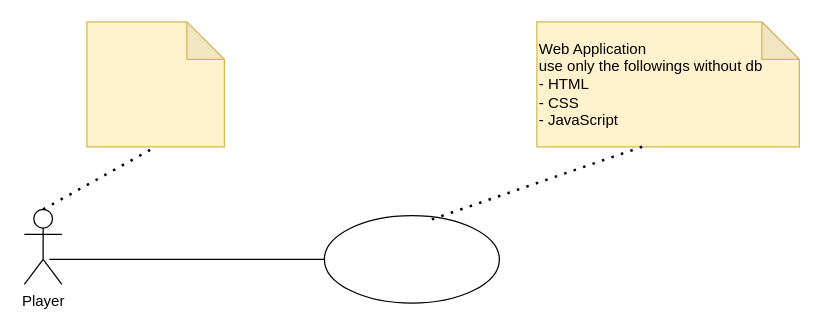
This 821x333 diagram has some shape labels left out. Each missing label, with the centre of its shape:
"Memory Game Application" goes at pixel 411 258.
"Play one by one, only one player" goes at pixel 155 84.
